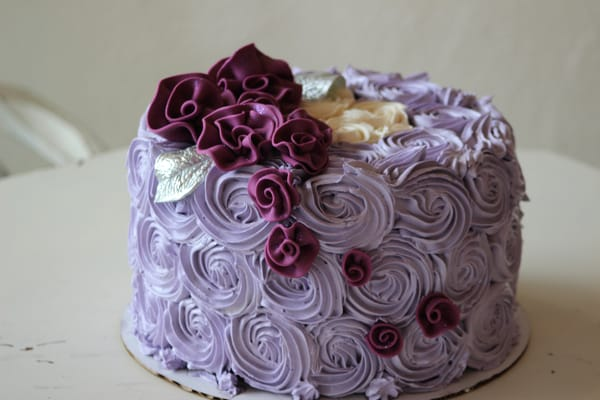sushi: (120, 44, 527, 393)
